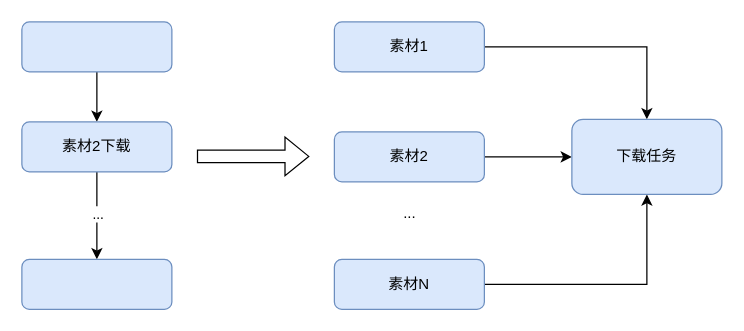
Image size: 744x331. Some labels were removed from this diagram. The box of each missing label's shape, as (x1, y1, x2, y2) in pixels:
素材1下载: (21, 21, 172, 72)
素材N下载: (21, 258, 172, 309)
